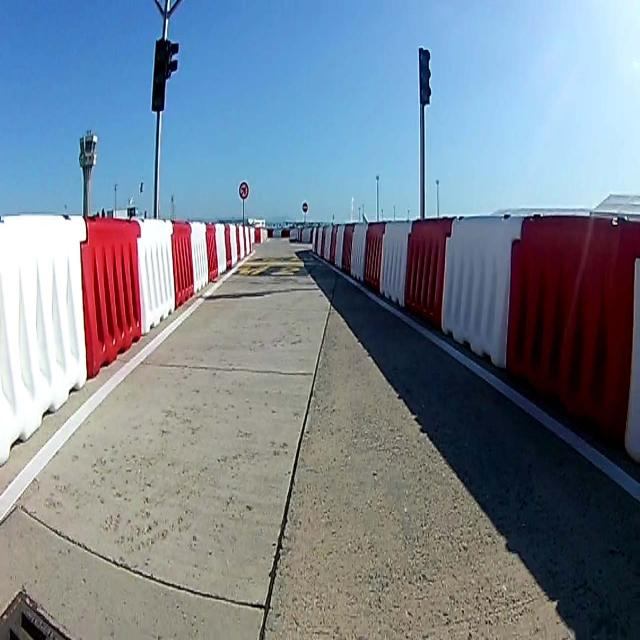soladonulmez: (239, 182, 249, 198)
